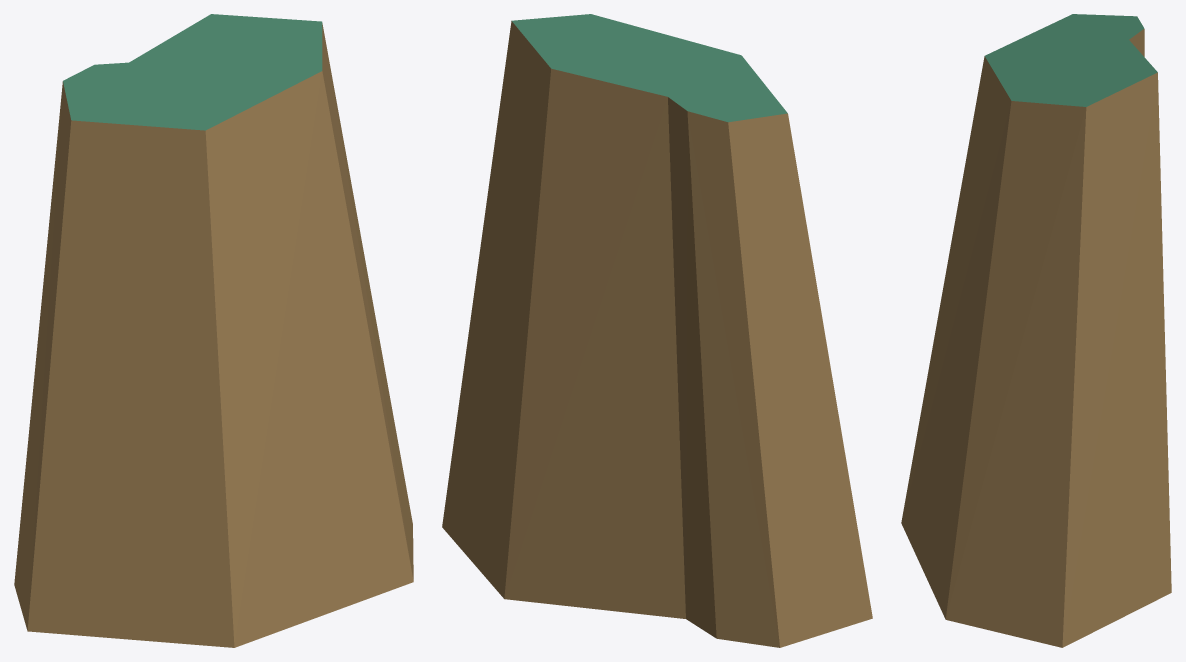
File: Rock_Medium_Mesa_Eroded_Moss_Grass_08.FBX
3 views of the same model, side by side, from view 1: azimuth 30°, elevation 25°; view 2: azimuth 150°, elevation 25°; view 3: azimuth 270°, elevation 25° (orthographic). The views are drawn at different scales.
Parts seen in each view (by area): view 1: Rock_Medium_Mesa_Eroded_Moss_Grass_08; view 2: Rock_Medium_Mesa_Eroded_Moss_Grass_08; view 3: Rock_Medium_Mesa_Eroded_Moss_Grass_08.
Boxes of the visible parts, x1,y1,x2,y2 form: Rock_Medium_Mesa_Eroded_Moss_Grass_08: [14, 14, 413, 647]; Rock_Medium_Mesa_Eroded_Moss_Grass_08: [442, 14, 872, 647]; Rock_Medium_Mesa_Eroded_Moss_Grass_08: [901, 14, 1171, 647].
Size of the model in its own units: 2481 by 3048 by 1485.
